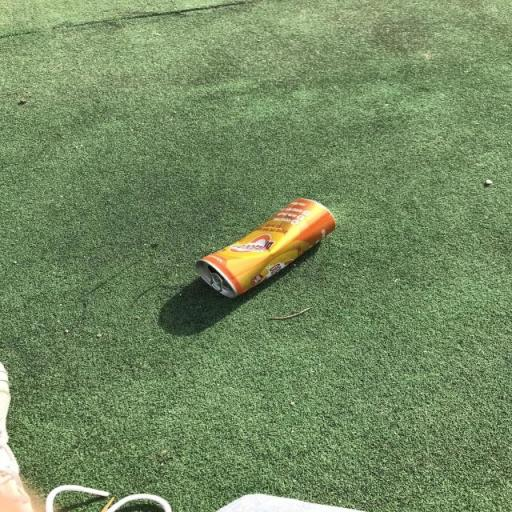metal: (178, 187, 344, 321)
